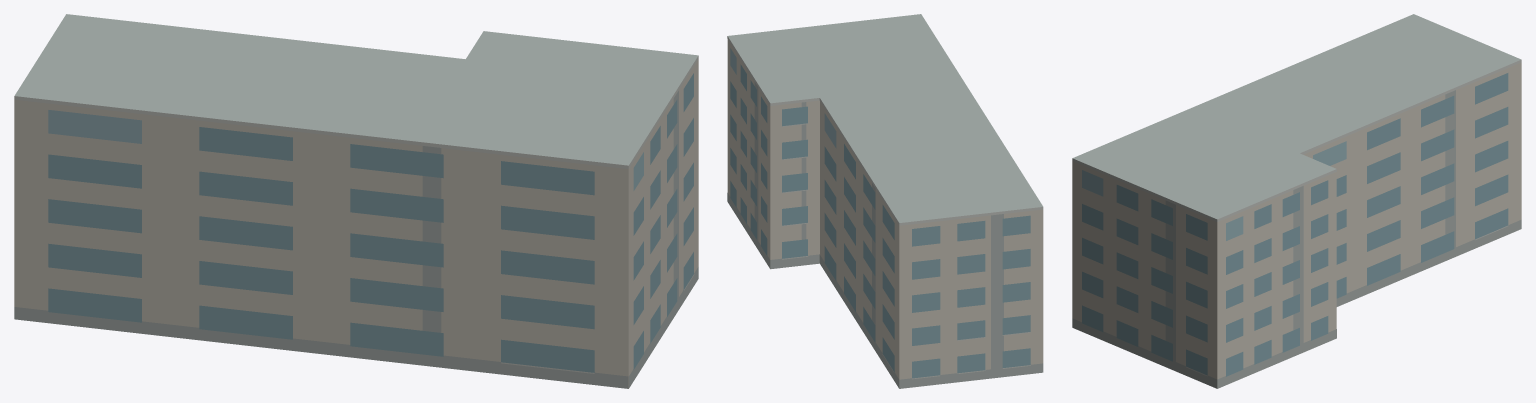
Rendered from residential-c9fb21fa-b1b1-4f43-9bd1-0ac70c3156ca.glb.
3 renders of one model, left to right at view 1: azimuth 30°, elevation 25°; view 2: azimuth 150°, elevation 25°; view 3: azimuth 270°, elevation 25°, orthographic. The views are drawn at different scales.
Parts seen in each view (by area): view 1: residential-c9fb21fa-b1b1-4f43-9bd1-0ac70c3156ca.tmp; view 2: residential-c9fb21fa-b1b1-4f43-9bd1-0ac70c3156ca.tmp; view 3: residential-c9fb21fa-b1b1-4f43-9bd1-0ac70c3156ca.tmp.
Part boxes in pixels (box(x1,y1,x2,y2)): residential-c9fb21fa-b1b1-4f43-9bd1-0ac70c3156ca.tmp: box(14, 14, 698, 388); residential-c9fb21fa-b1b1-4f43-9bd1-0ac70c3156ca.tmp: box(727, 14, 1043, 388); residential-c9fb21fa-b1b1-4f43-9bd1-0ac70c3156ca.tmp: box(1072, 14, 1521, 388).
Bounding box in the file's own units: 39.66 × 15.25 × 36.64.
